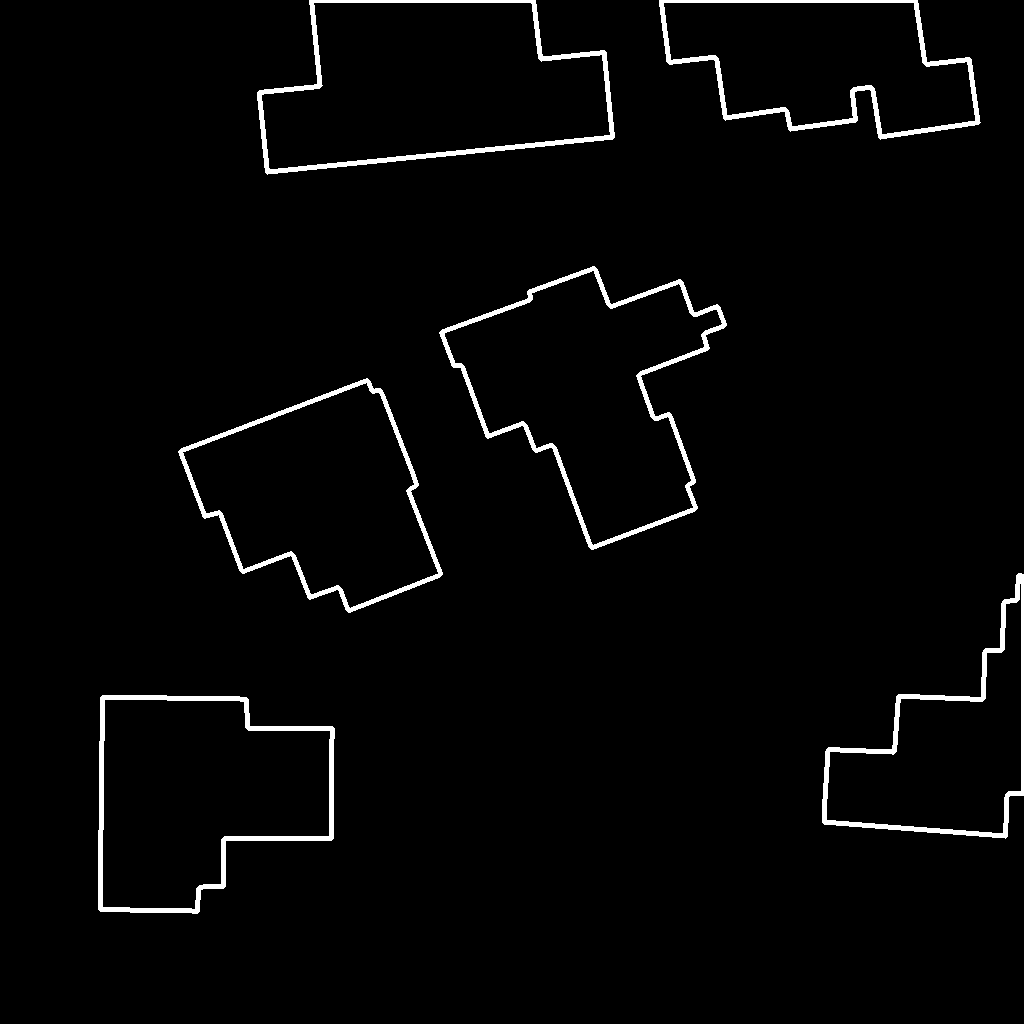building: (441, 268, 726, 549), (259, 0, 614, 173), (180, 380, 442, 612), (824, 575, 1024, 837), (100, 697, 333, 912), (661, 0, 979, 138)
